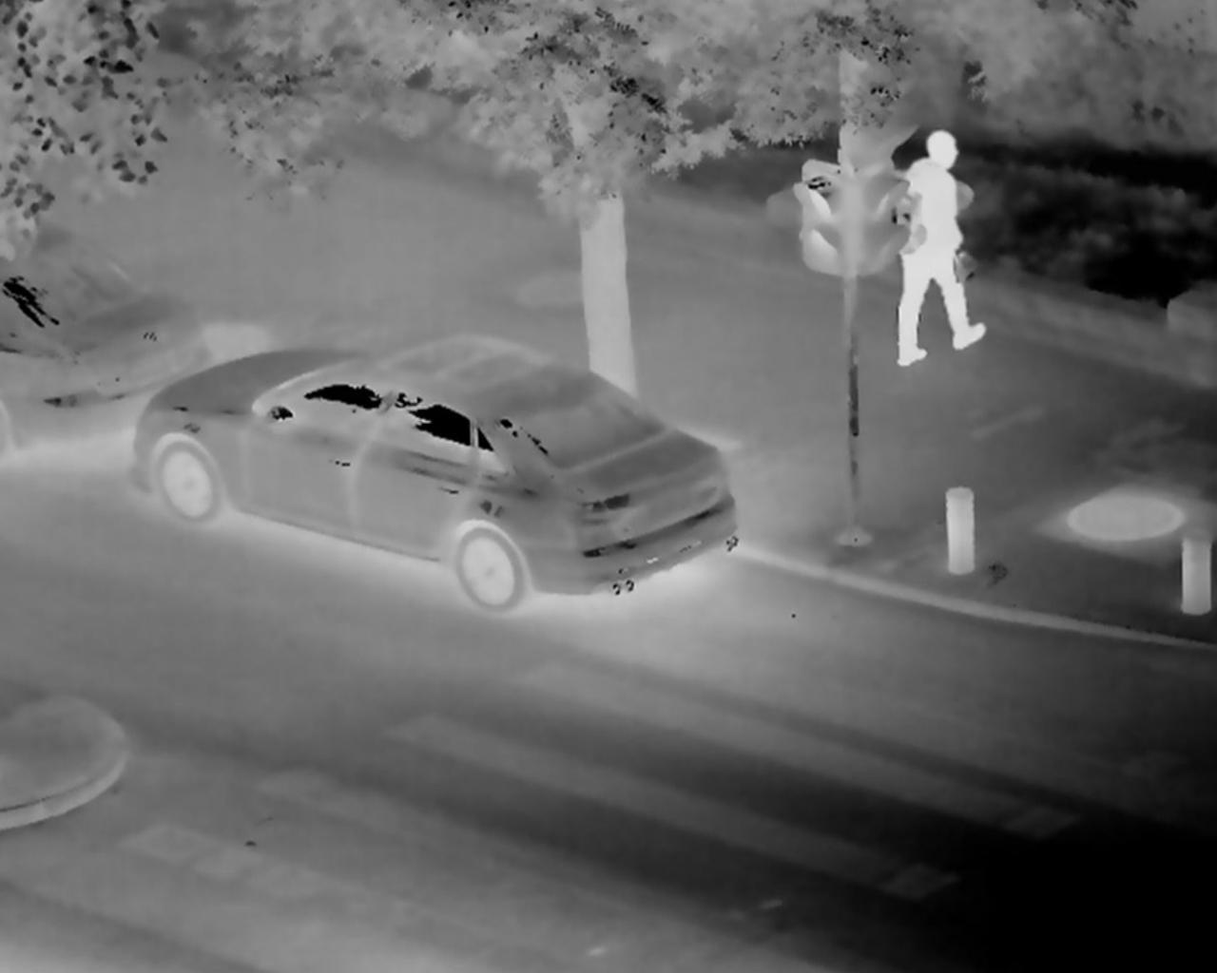person: (886, 124, 985, 361)
